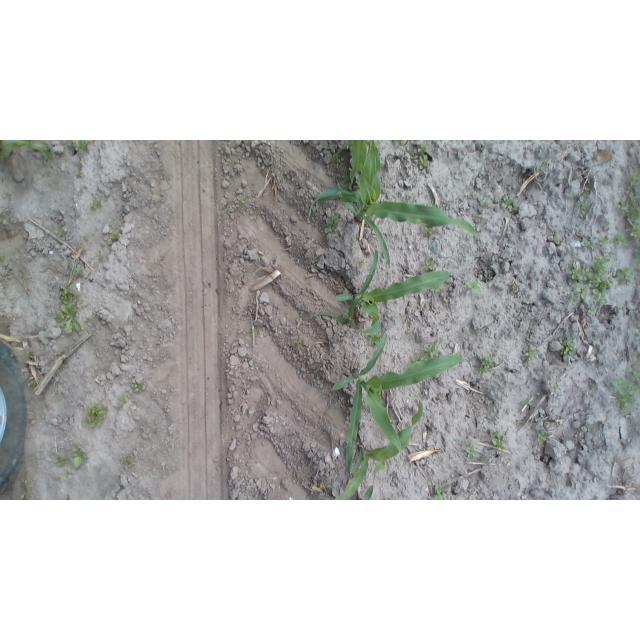Maize: (331, 333, 469, 478), (308, 170, 480, 266), (312, 250, 451, 335), (329, 401, 423, 500), (330, 141, 390, 192), (1, 141, 56, 164)
Weeds: (569, 256, 631, 316), (617, 165, 640, 259), (609, 361, 639, 413), (56, 286, 82, 335), (54, 446, 88, 471), (84, 404, 111, 430), (573, 187, 594, 220), (411, 340, 440, 362), (410, 144, 432, 169), (323, 208, 341, 235), (502, 193, 521, 214), (489, 430, 507, 450), (70, 141, 93, 156), (466, 444, 483, 460), (560, 339, 574, 357), (119, 454, 137, 468), (478, 356, 493, 372), (21, 480, 32, 501), (433, 485, 448, 500), (90, 195, 104, 211), (467, 279, 482, 293), (423, 258, 437, 271), (536, 429, 548, 443), (117, 394, 127, 410), (476, 194, 488, 207), (524, 348, 536, 361), (366, 334, 380, 345), (520, 397, 532, 409), (579, 236, 590, 248), (109, 228, 121, 239), (130, 382, 140, 391), (424, 226, 433, 235), (294, 340, 302, 347)
